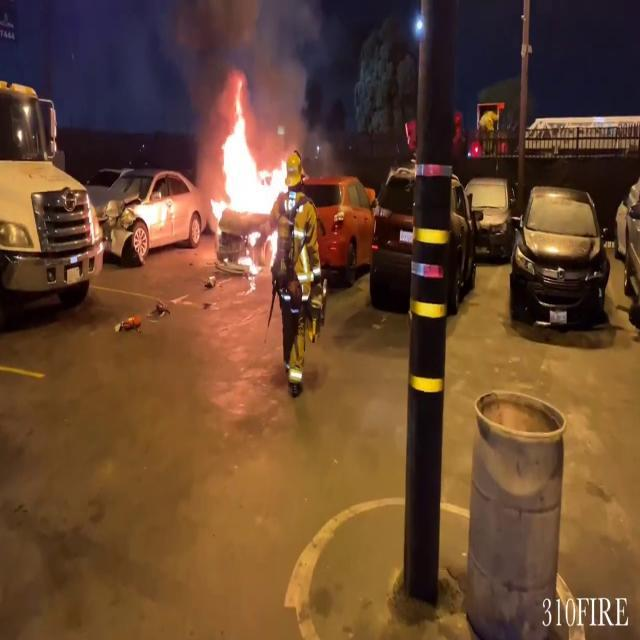Fire: (208, 74, 292, 226)
Smoke: (182, 0, 320, 140)
